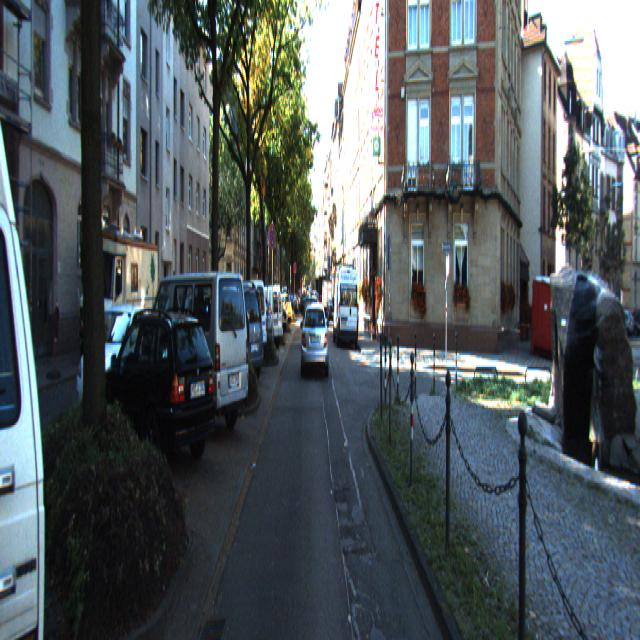Car: (0, 5, 79, 638), (96, 312, 220, 490), (144, 266, 252, 444), (76, 228, 159, 376), (198, 283, 267, 391), (219, 279, 269, 375), (245, 282, 284, 348), (302, 303, 330, 378), (334, 266, 359, 348), (303, 295, 320, 348)
